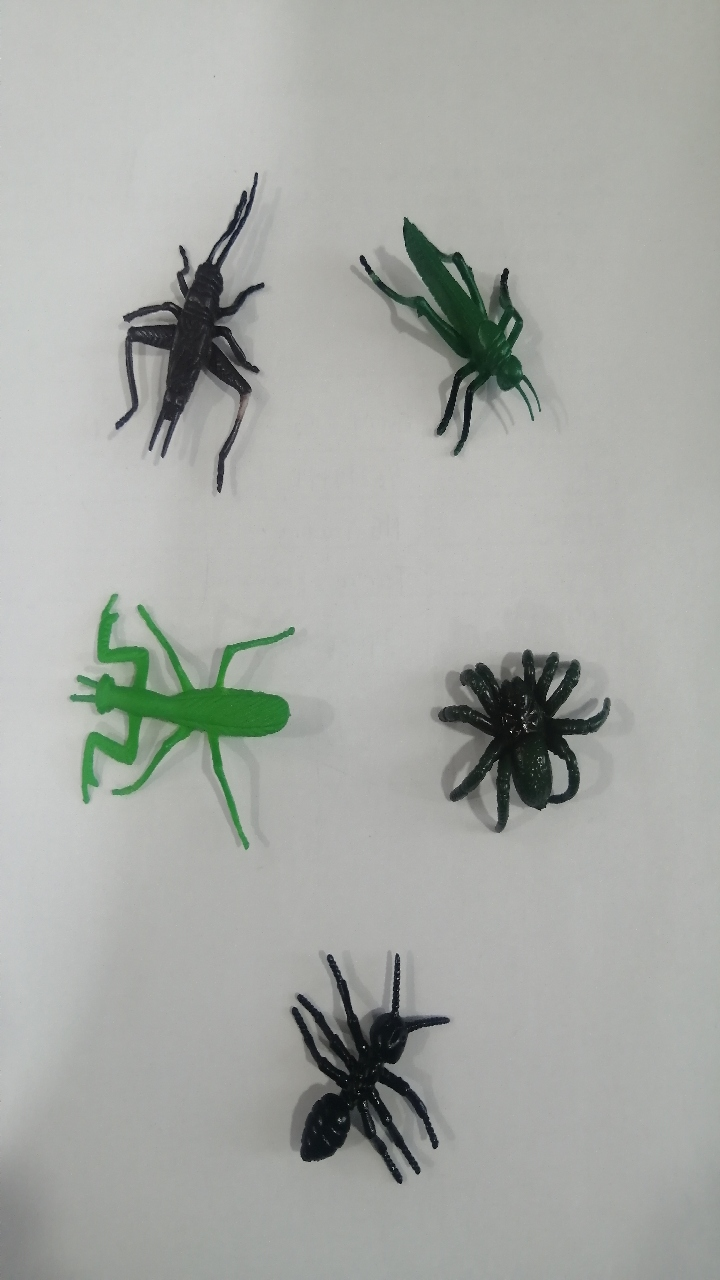intruso: (34, 566, 328, 854), (337, 166, 561, 485), (249, 915, 481, 1214), (95, 137, 278, 514), (417, 614, 631, 852)
